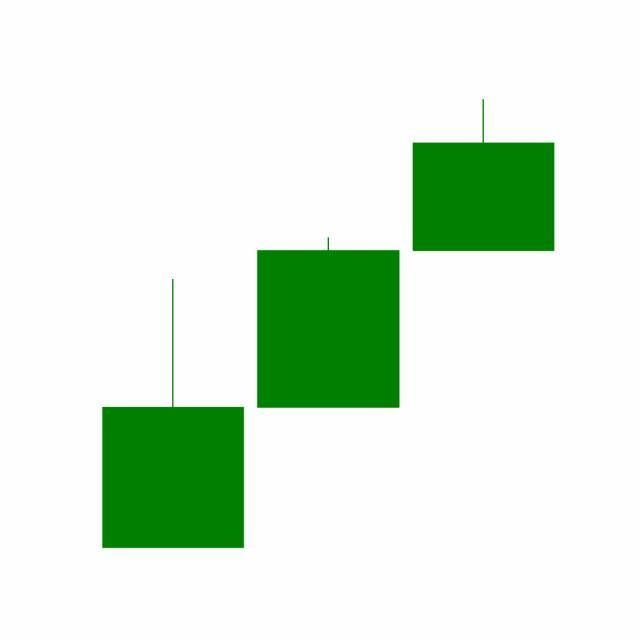Marubozu: (250, 235, 407, 410)
